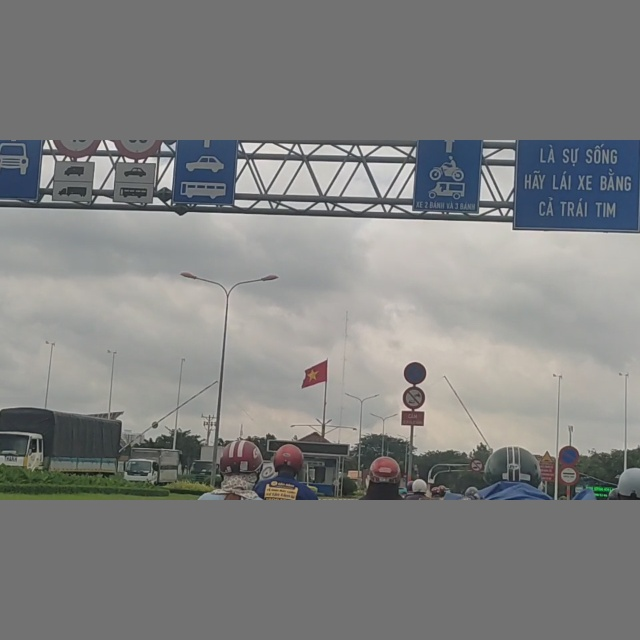P.107: (470, 458, 483, 472)
P.111: (403, 387, 426, 409)
P.129: (559, 467, 579, 487)
P.130: (403, 362, 427, 384)
P.131a: (559, 446, 579, 465)
W.221b: (540, 450, 554, 463)
